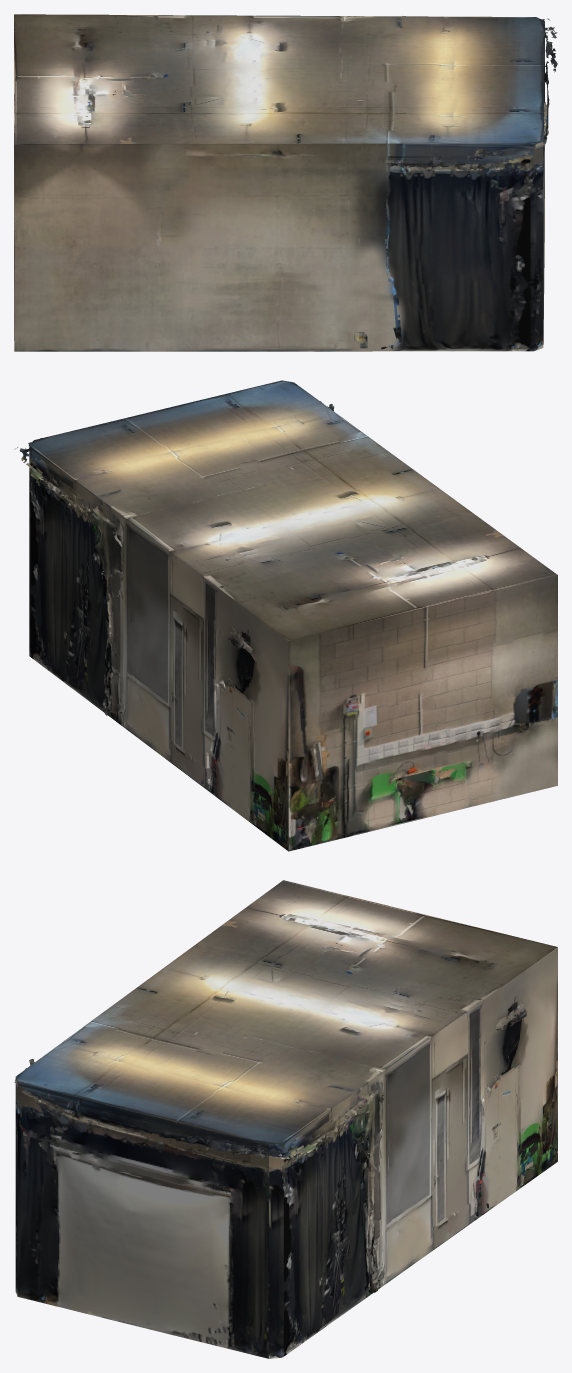
File: M203a-IMv2.fbx
3 views of the same model, one above another, from view 1: azimuth 30°, elevation 25°; view 2: azimuth 150°, elevation 25°; view 3: azimuth 270°, elevation 25° (orthographic). The views are drawn at different scales.
Parts seen in each view (by area): view 1: M203a-IMv2; view 2: M203a-IMv2; view 3: M203a-IMv2.
Boxes of the visible parts, box(x1,y1,x2,y2) form: M203a-IMv2: box(14, 14, 557, 351); M203a-IMv2: box(14, 380, 557, 851); M203a-IMv2: box(14, 880, 557, 1358).
Bounding box in the file's own units: 848 × 316 × 721.
Materials: 1 (1 with a texture image).
